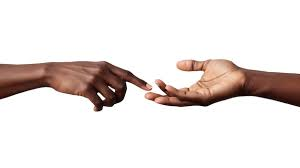no-gloves: (41, 59, 153, 113), (140, 55, 246, 108)
